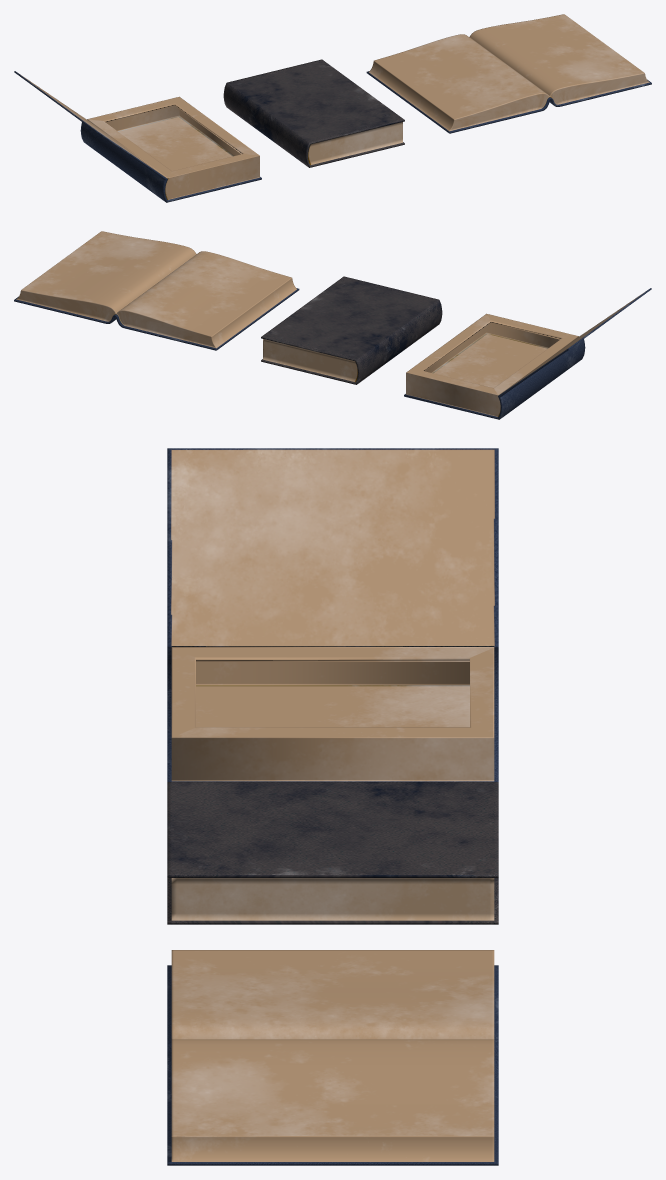
File: books.obj
The picture shows the model from 3 angles, top to bottom: view 1: azimuth 30°, elevation 25°; view 2: azimuth 150°, elevation 25°; view 3: azimuth 270°, elevation 25°; orthographic projection. The views are drawn at different scales.
Parts seen in each view (by area): view 1: open_book_Cube.001, book_Cube, container_book_Cube.003; view 2: open_book_Cube.001, book_Cube, container_book_Cube.003; view 3: container_book_Cube.003, open_book_Cube.001, book_Cube.
Part boxes in pixels (x1,y1,x2,y2): open_book_Cube.001: [366, 14, 651, 133]; book_Cube: [223, 59, 404, 167]; container_book_Cube.003: [14, 71, 261, 202]; open_book_Cube.001: [14, 231, 299, 350]; book_Cube: [261, 276, 442, 384]; container_book_Cube.003: [404, 288, 651, 419]; container_book_Cube.003: [167, 448, 498, 781]; open_book_Cube.001: [167, 950, 498, 1165]; book_Cube: [167, 782, 498, 924].
Size of the model in its own units: 7.95 by 1.21 by 2.05.
3 materials, 3 textured.
